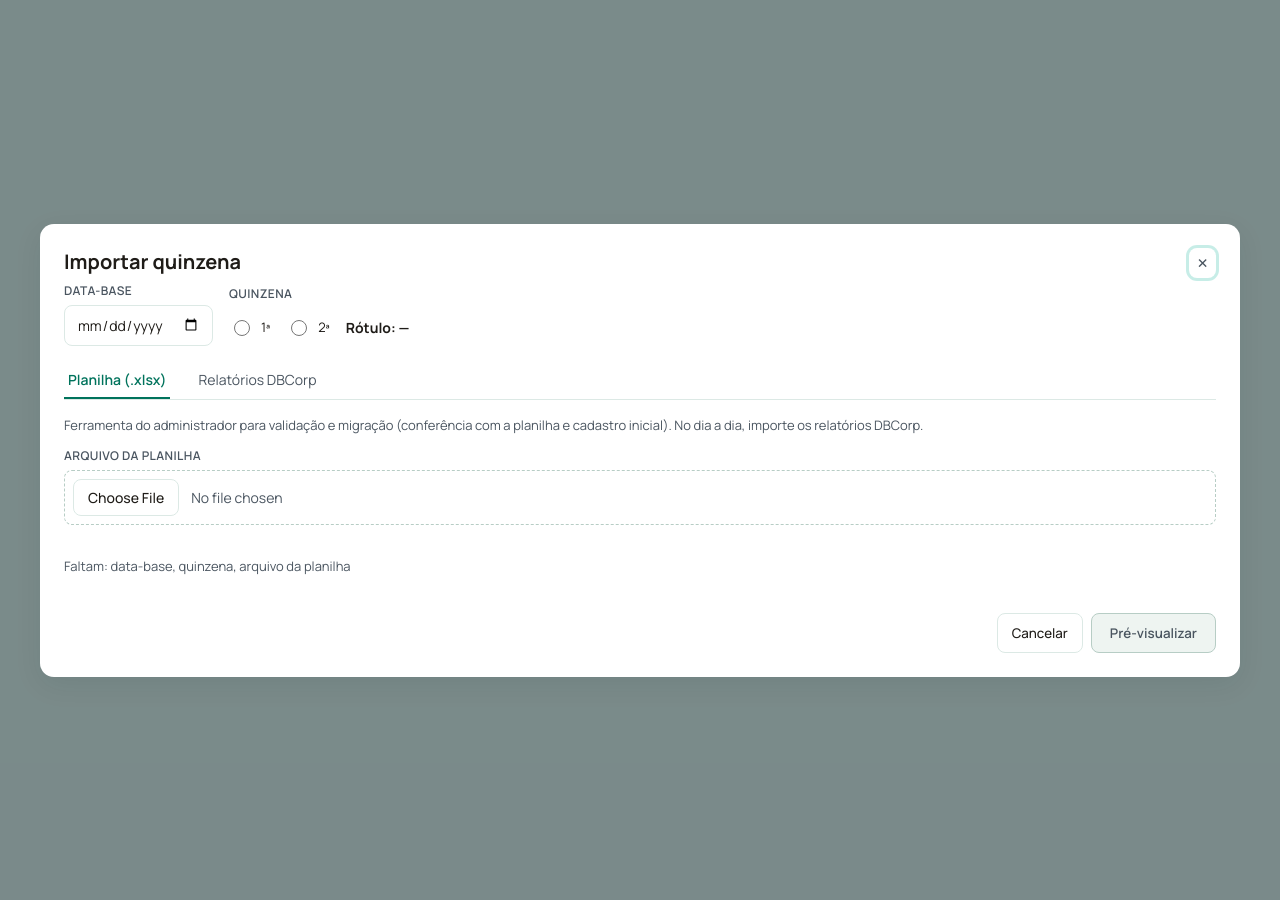
Test: ForecastImportModal - campos e rotulo › o rotulo e derivado da data-base e da quinzena
The image size is (1280, 900).
Check: the text "Rótulo: —" is shown, box [346,316,410,346]
Type "2026-10-15" into the date field labelled "Data-base".
click(138, 325); type("2026-10-15")  # box [64,304,213,346]
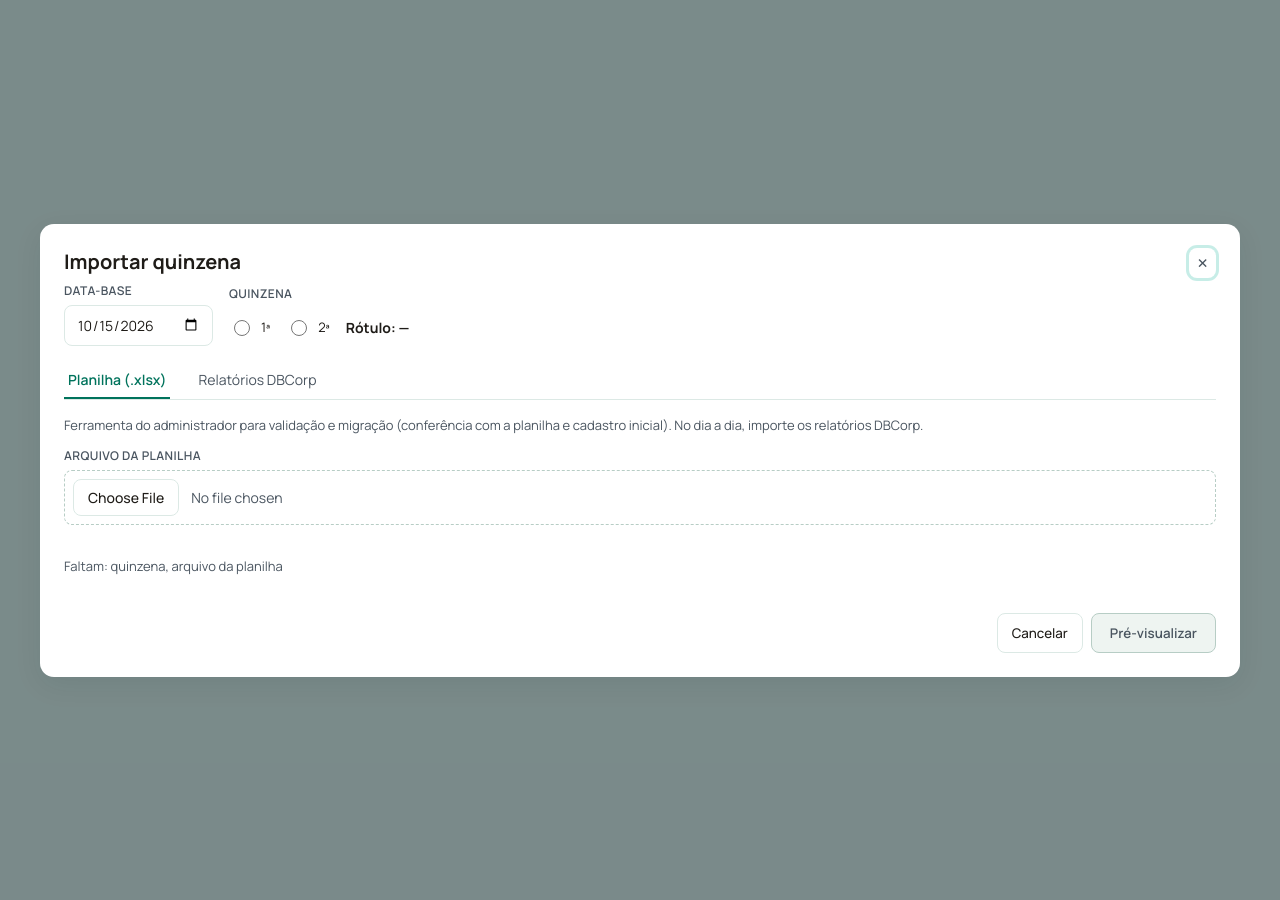
Click the radio button labelled "2ª".
click(299, 328)  # box [291,320,307,336]
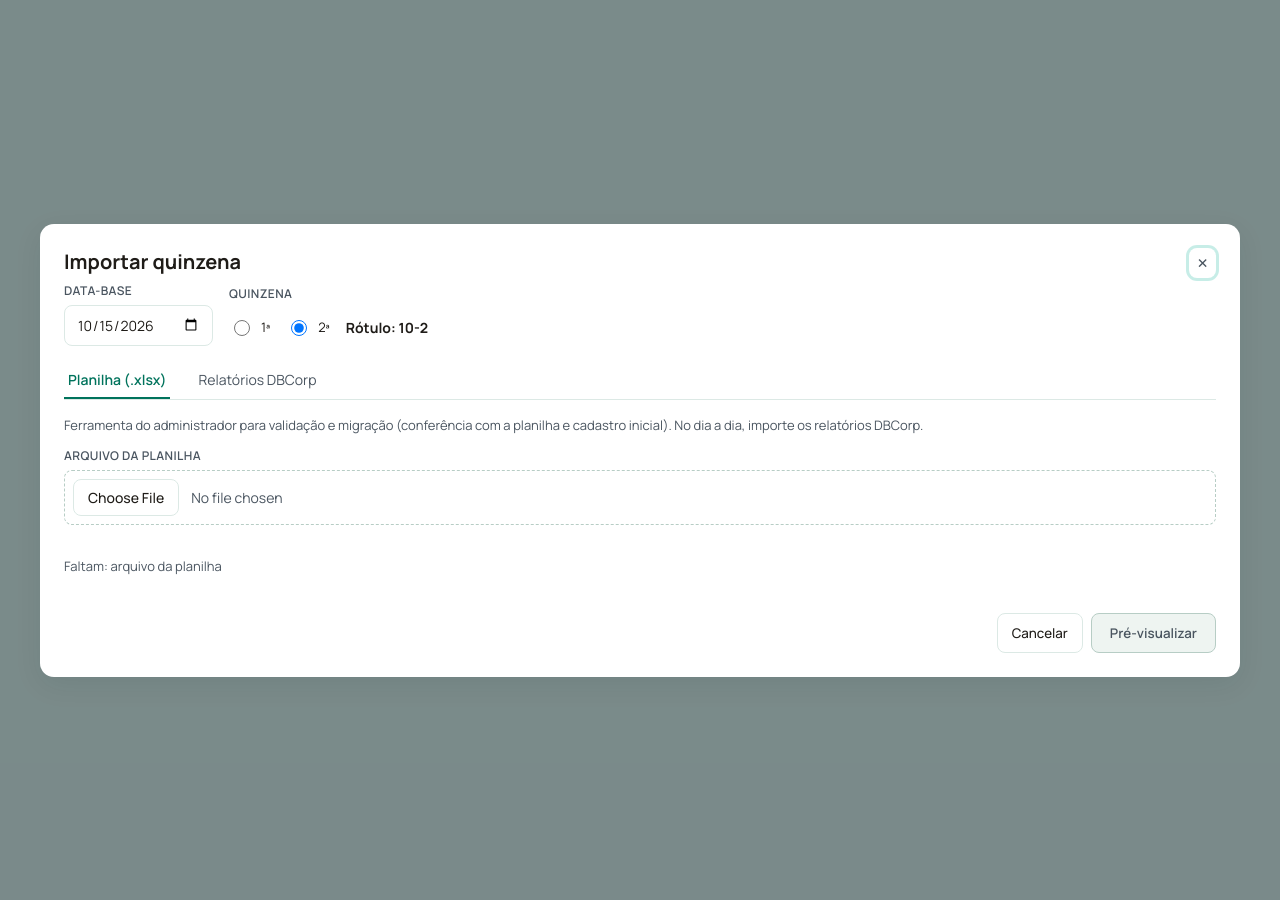
Check: the text "Rótulo: 10-2" is shown, box [346,316,428,346]
Click the radio button labelled "1ª".
click(242, 328)  # box [234,320,250,336]
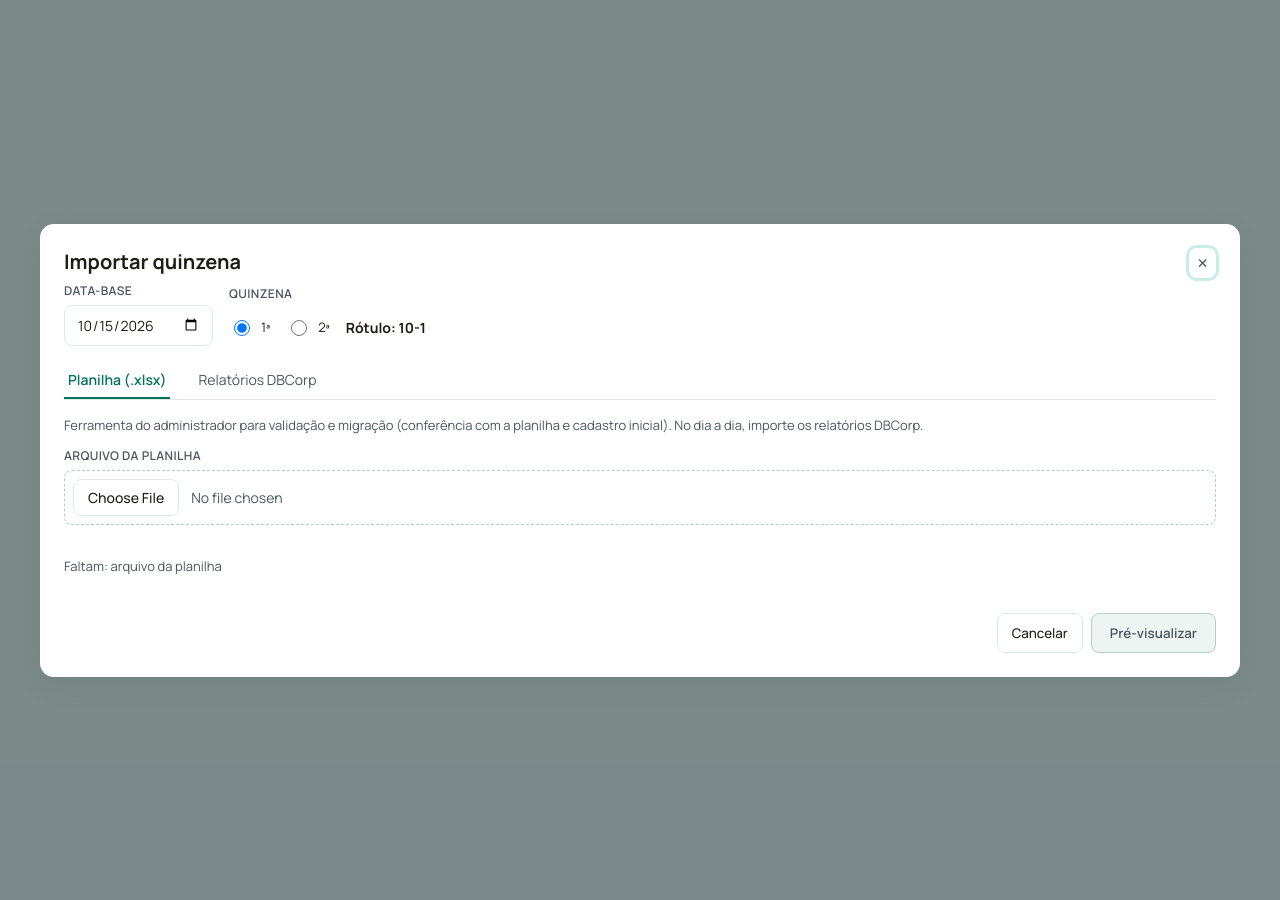
Check: the text "Rótulo: 10-1" is shown, box [346,316,426,346]
